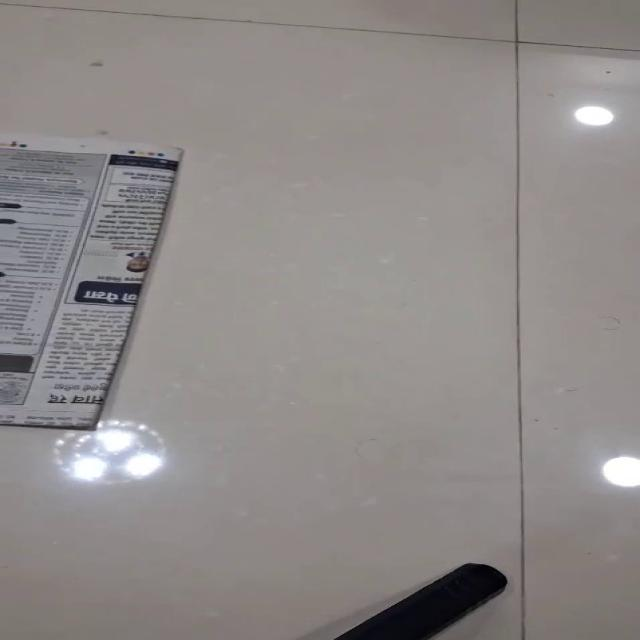paper: (0, 134, 183, 430)
